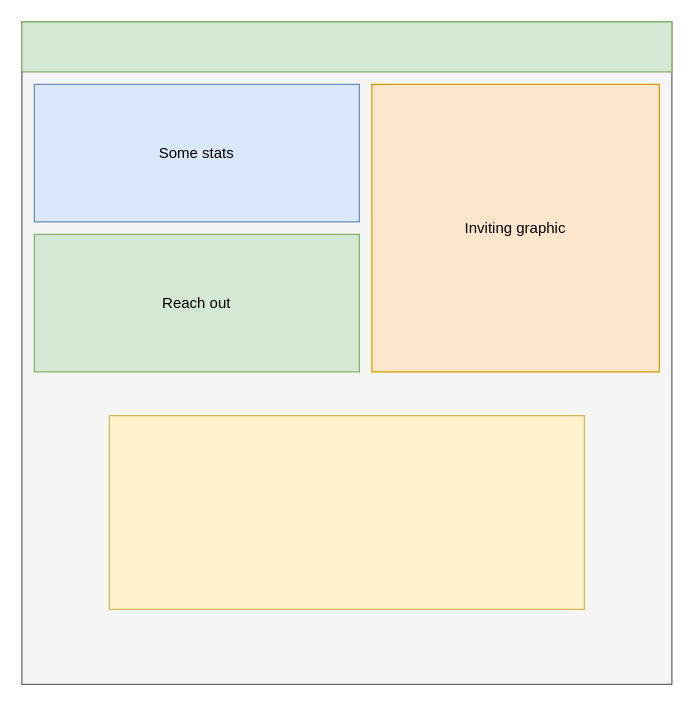
This 694x706 diagram has some shape labels left out. Here are the shapes that lost their labels. From the top down, the centre of each, then its label:
the point at 346,46: Navbar
the point at 346,511: Call to action / search bar
